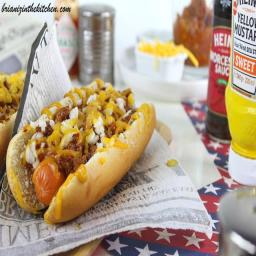hotdog: (6, 77, 156, 228)
